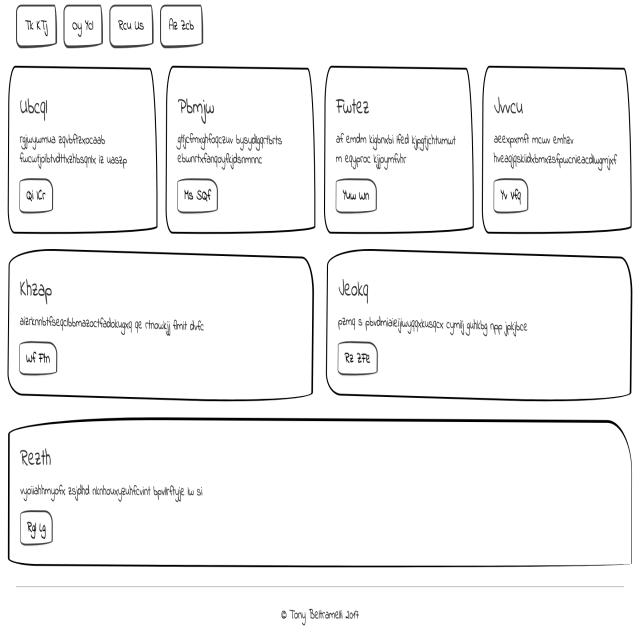Button: (332, 173, 382, 214), (18, 338, 59, 379), (337, 340, 378, 377), (492, 176, 528, 215), (16, 176, 56, 211), (178, 178, 214, 213), (22, 509, 52, 545)
Card: (8, 420, 631, 570), (324, 247, 634, 402), (14, 255, 313, 397), (0, 581, 640, 640), (164, 62, 316, 234), (480, 64, 628, 240), (8, 65, 157, 231), (326, 65, 472, 231)
Footer: (0, 583, 640, 640)
Heading 6: (178, 94, 217, 126), (335, 274, 375, 304), (335, 94, 374, 124), (18, 278, 58, 306), (15, 444, 54, 472), (18, 96, 52, 126), (495, 96, 524, 124)
Navigation Bar: (14, 3, 206, 51)
Paragraph: (491, 126, 624, 178), (336, 312, 532, 340), (334, 128, 459, 170), (16, 130, 132, 175), (18, 481, 206, 505), (16, 311, 208, 334), (175, 133, 291, 165)
